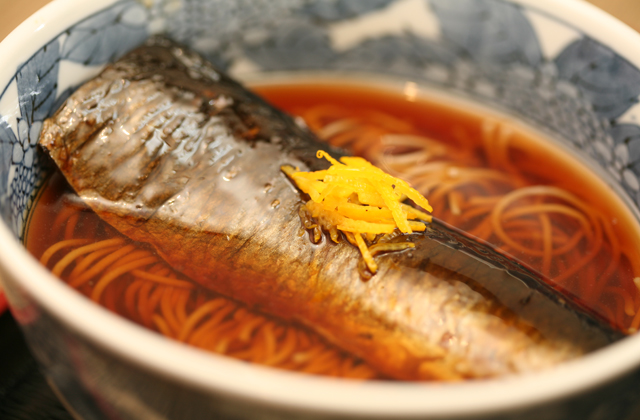Soba: (53, 229, 384, 374), (323, 102, 604, 246)
